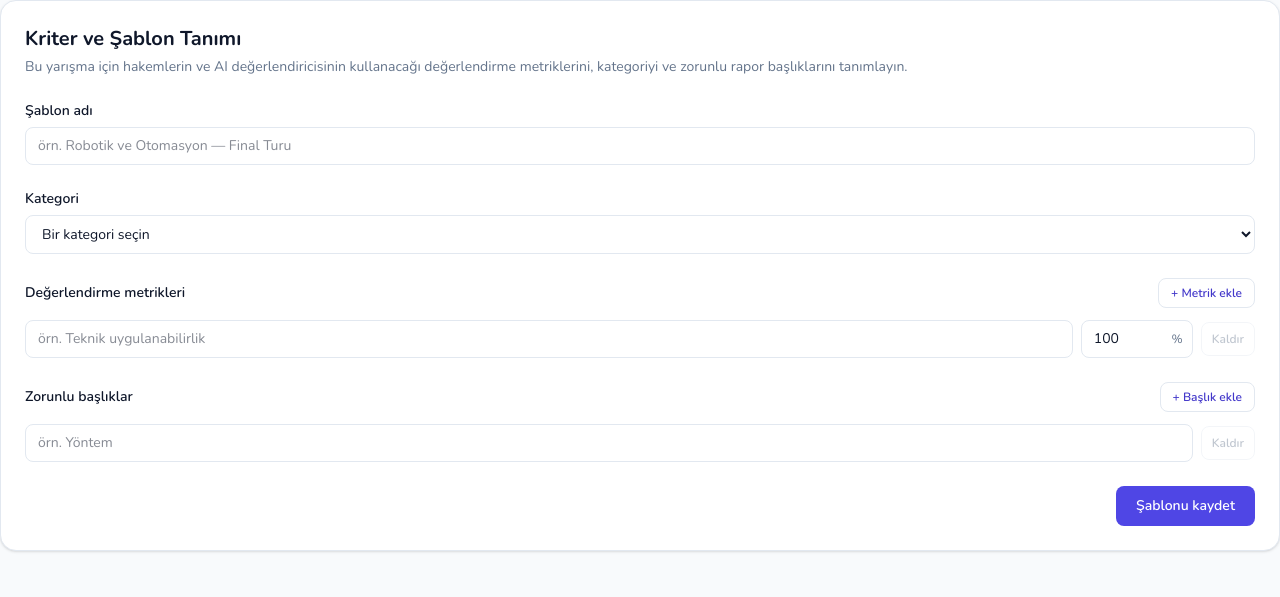
Scenario: CriteriaTemplateForm › flags metric weights that don't add up to 100%
In the field labelled "Şablon adı": [640, 146] box left=25, top=127, right=1255, bottom=165, type "Robotik Final Turu"
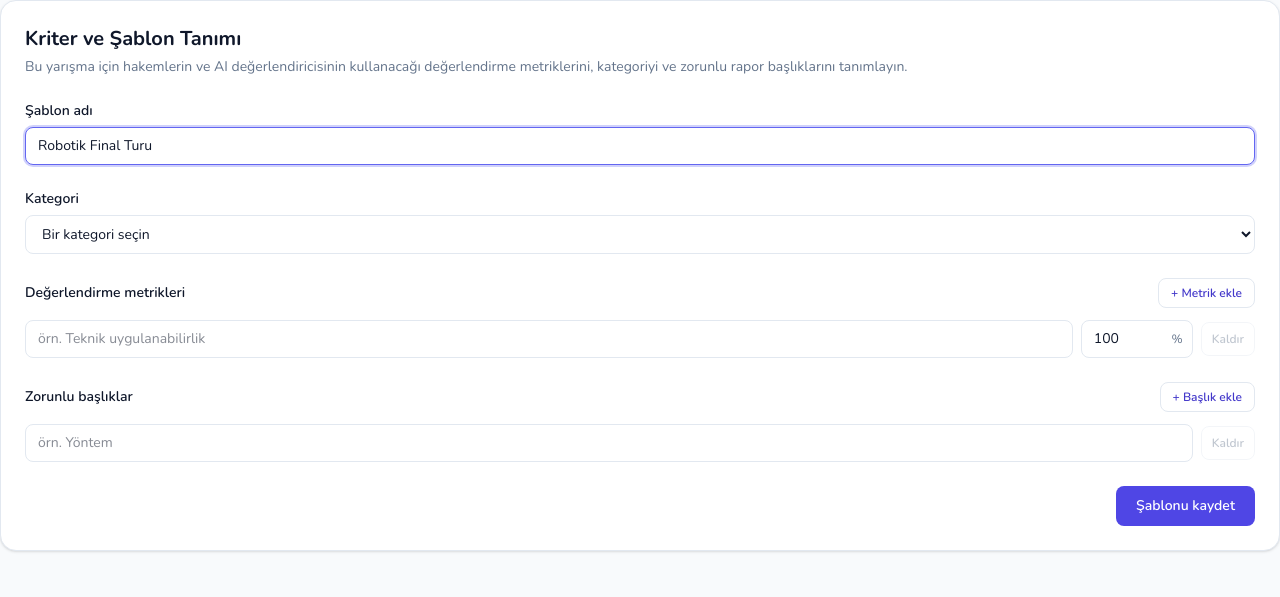
Select "Robotik ve Otomasyon" in the dropdown labelled "Kategori": [640, 234] box left=25, top=215, right=1255, bottom=254
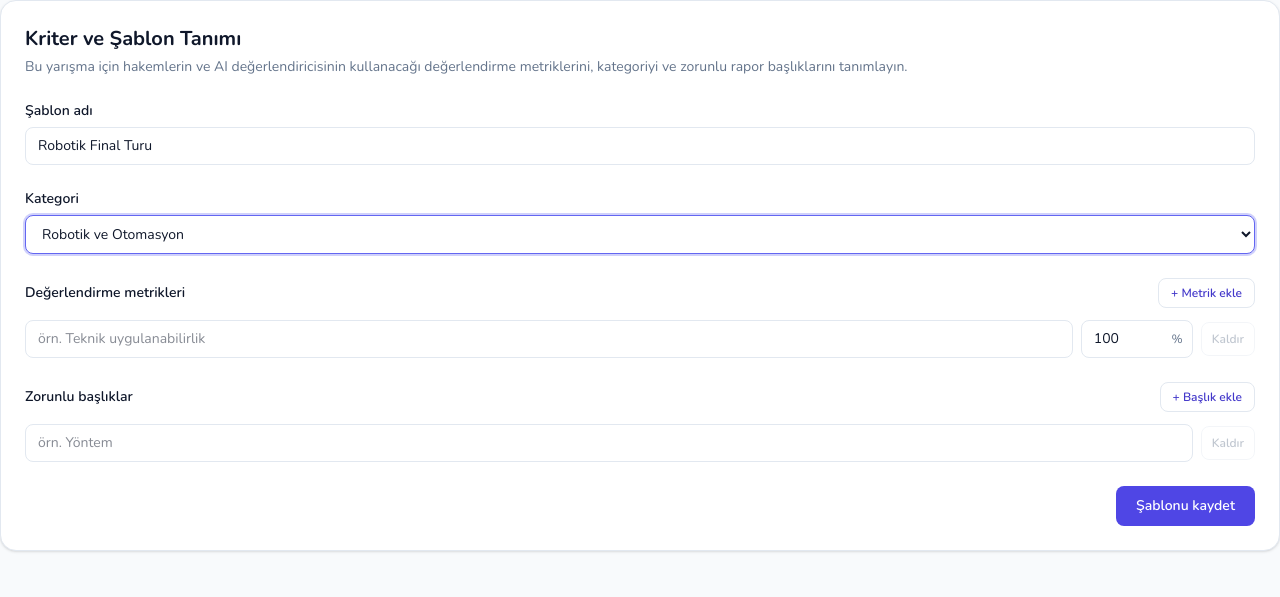
In the field named "metrik 1 adı": [549, 339] box left=25, top=320, right=1073, bottom=358, type "Teknik uygulanabilirlik"
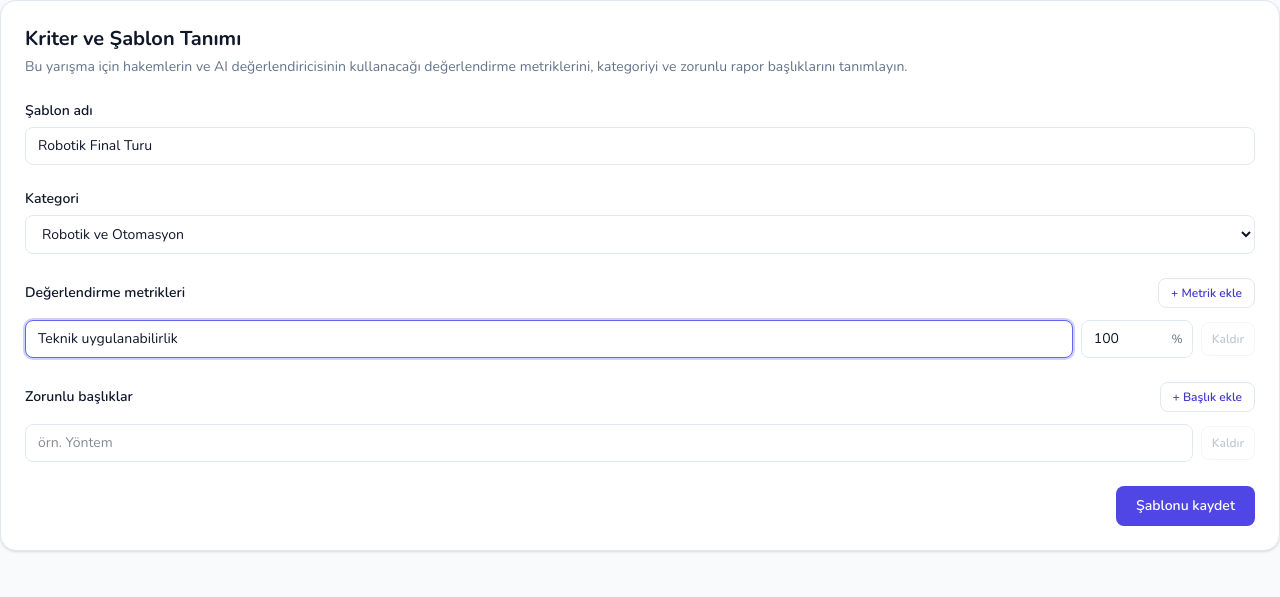
Replace the text in the number field with "40": [1137, 339] box left=1081, top=320, right=1193, bottom=358
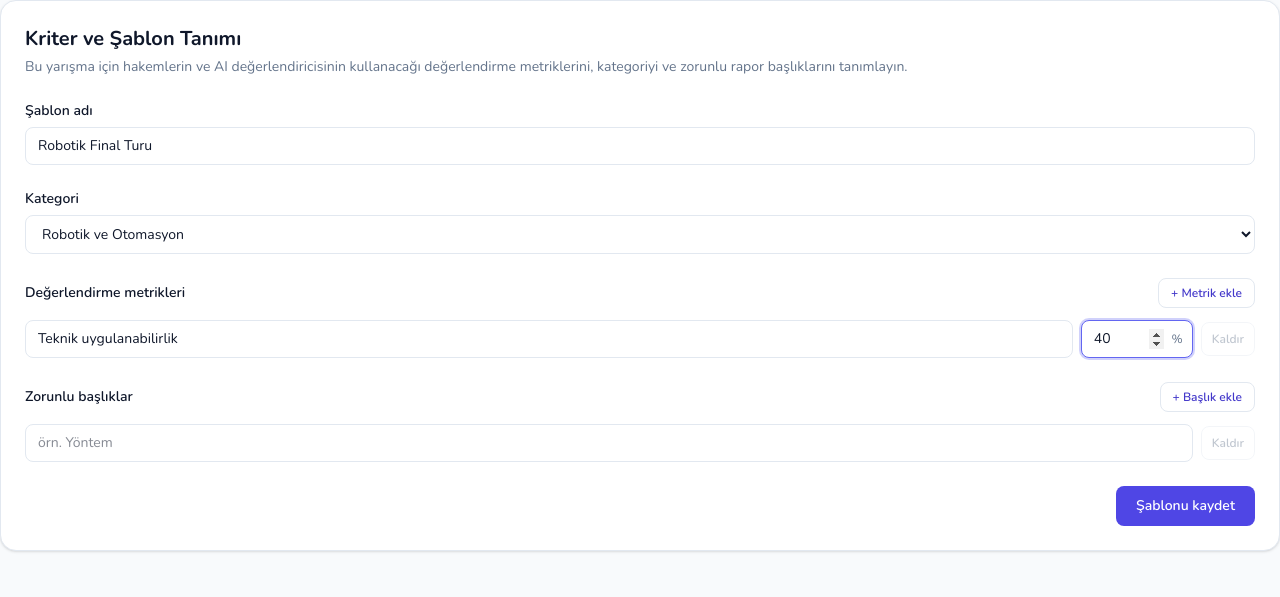
In the field named "zorunlu başlık 1": [609, 443] box left=25, top=424, right=1193, bottom=462, type "Özet"
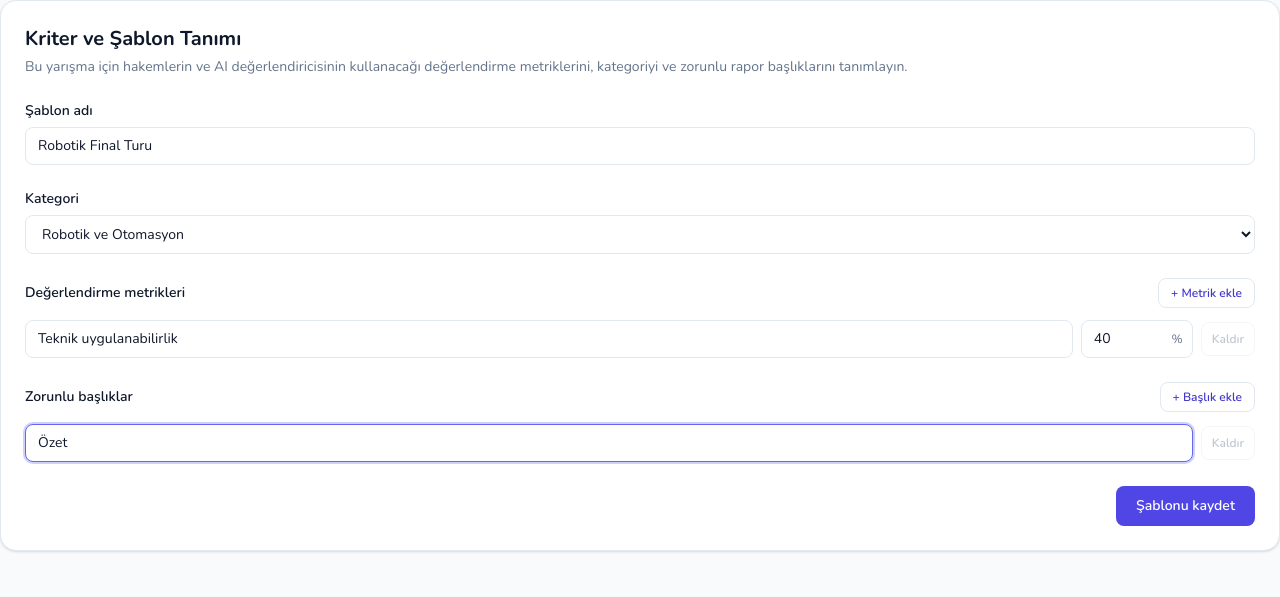
Click the button "Şablonu kaydet": [1186, 506] box left=1116, top=486, right=1255, bottom=526
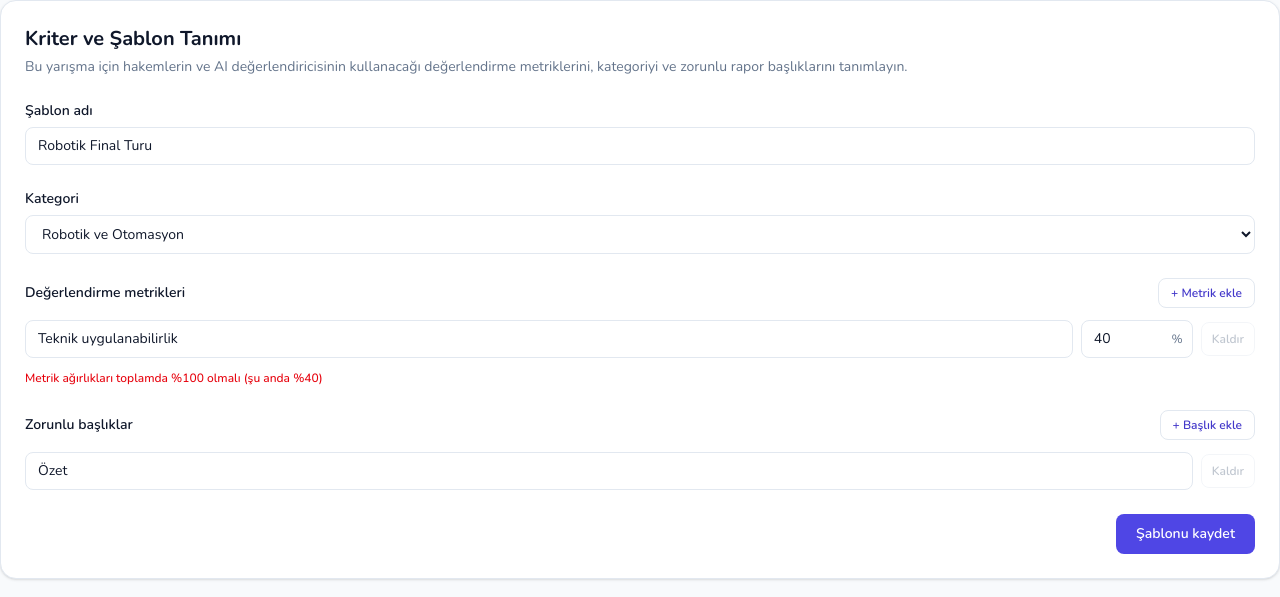
Expected: the text "Metrik ağırlıkları toplamda %100 olmalı (şu anda %40)" is shown, left=25, top=370, right=323, bottom=386
